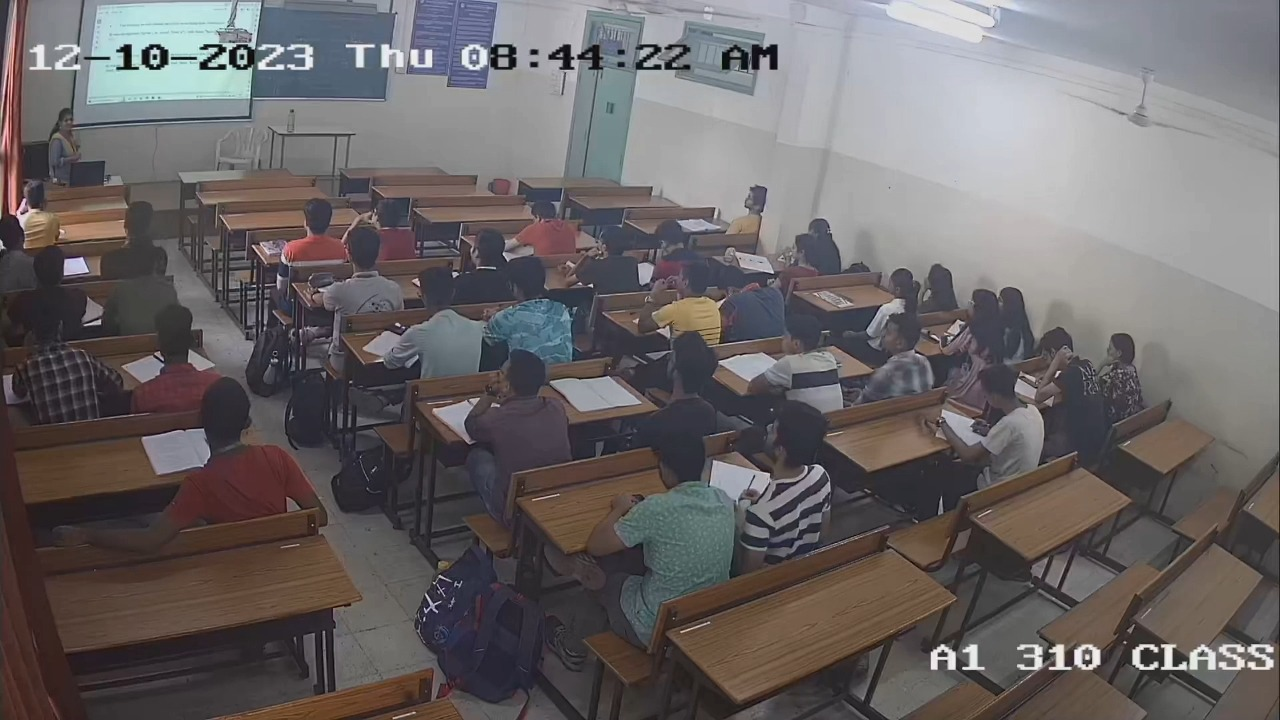cell-phones: (967, 417, 994, 437), (1017, 373, 1038, 389), (919, 328, 940, 344), (382, 322, 405, 336)
person: (394, 266, 482, 372), (969, 367, 1046, 473), (1035, 327, 1105, 417), (953, 288, 1005, 352)
